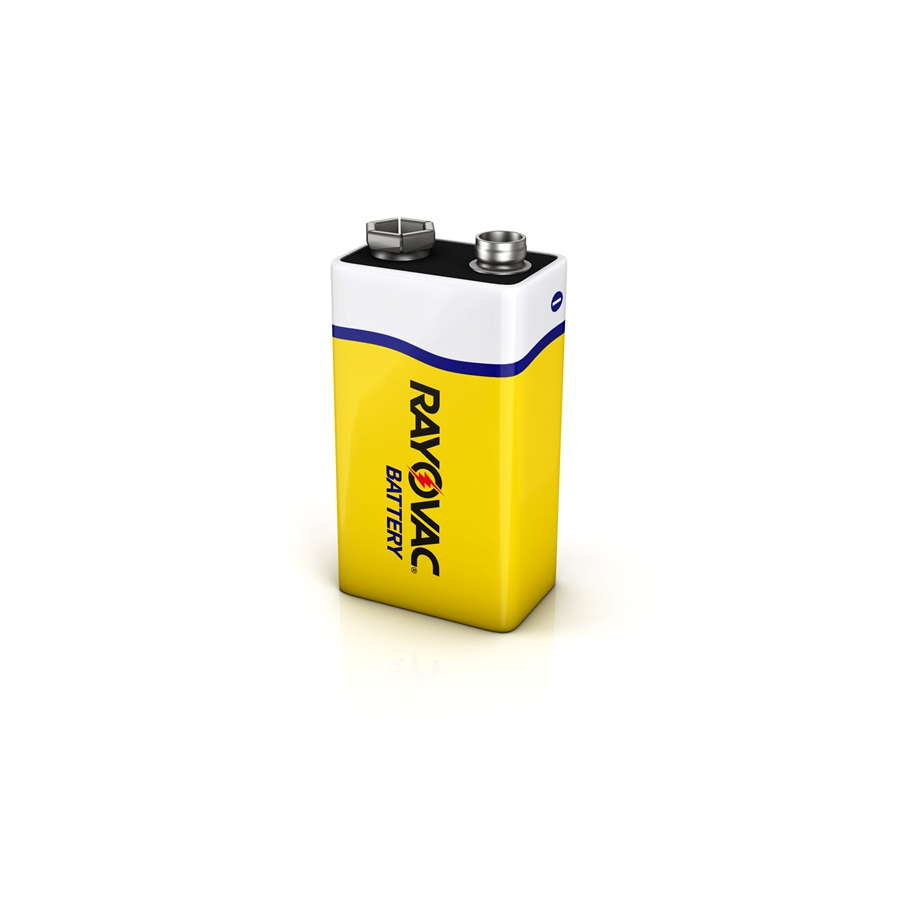9V: (328, 206, 582, 643)
